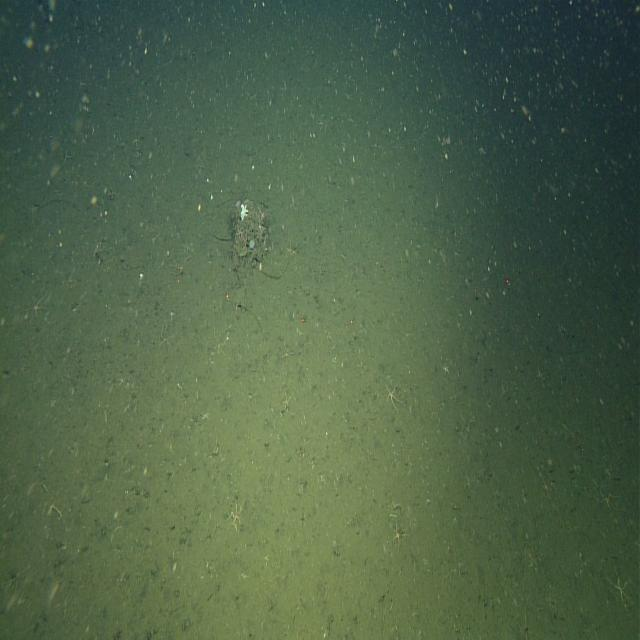Brittle Star: (605, 562, 636, 610), (594, 482, 622, 516), (24, 288, 50, 324), (381, 376, 404, 416), (208, 330, 232, 365), (225, 496, 246, 534), (275, 335, 296, 368), (278, 386, 297, 416), (537, 473, 556, 502), (390, 518, 407, 548), (438, 356, 454, 382)
